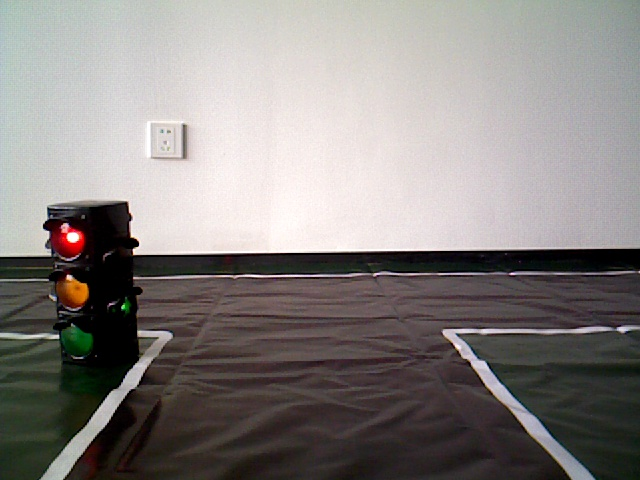red: (47, 207, 134, 367)
